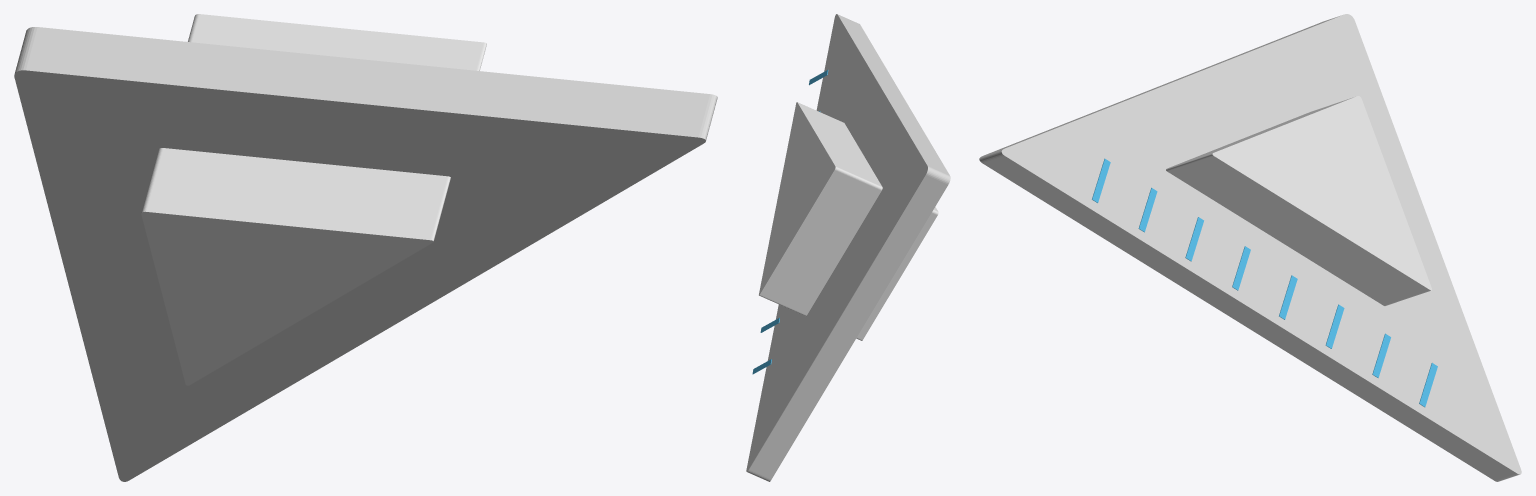
The model's file is meetdriehoek.glb.
3 views of the same model, side by side, from view 1: azimuth 30°, elevation 25°; view 2: azimuth 150°, elevation 25°; view 3: azimuth 270°, elevation 25° (orthographic). The views are drawn at different scales.
Visible parts, largest first — view 1: triangle/glass, Cube.004; view 2: triangle/glass, Cube.004, measuring-lines/color; view 3: triangle/glass, Cube.004, measuring-lines/color.
Part boxes in pixels (x1,y1,x2,y2): triangle/glass: (14, 27, 717, 481); Cube.004: (141, 14, 486, 385); triangle/glass: (746, 14, 950, 481); Cube.004: (759, 102, 938, 340); measuring-lines/color: (752, 70, 828, 374); triangle/glass: (979, 14, 1521, 481); Cube.004: (1166, 96, 1431, 305); measuring-lines/color: (1092, 158, 1437, 407).
Size of the model in its own units: 1.84 by 2.26 by 2.72.
